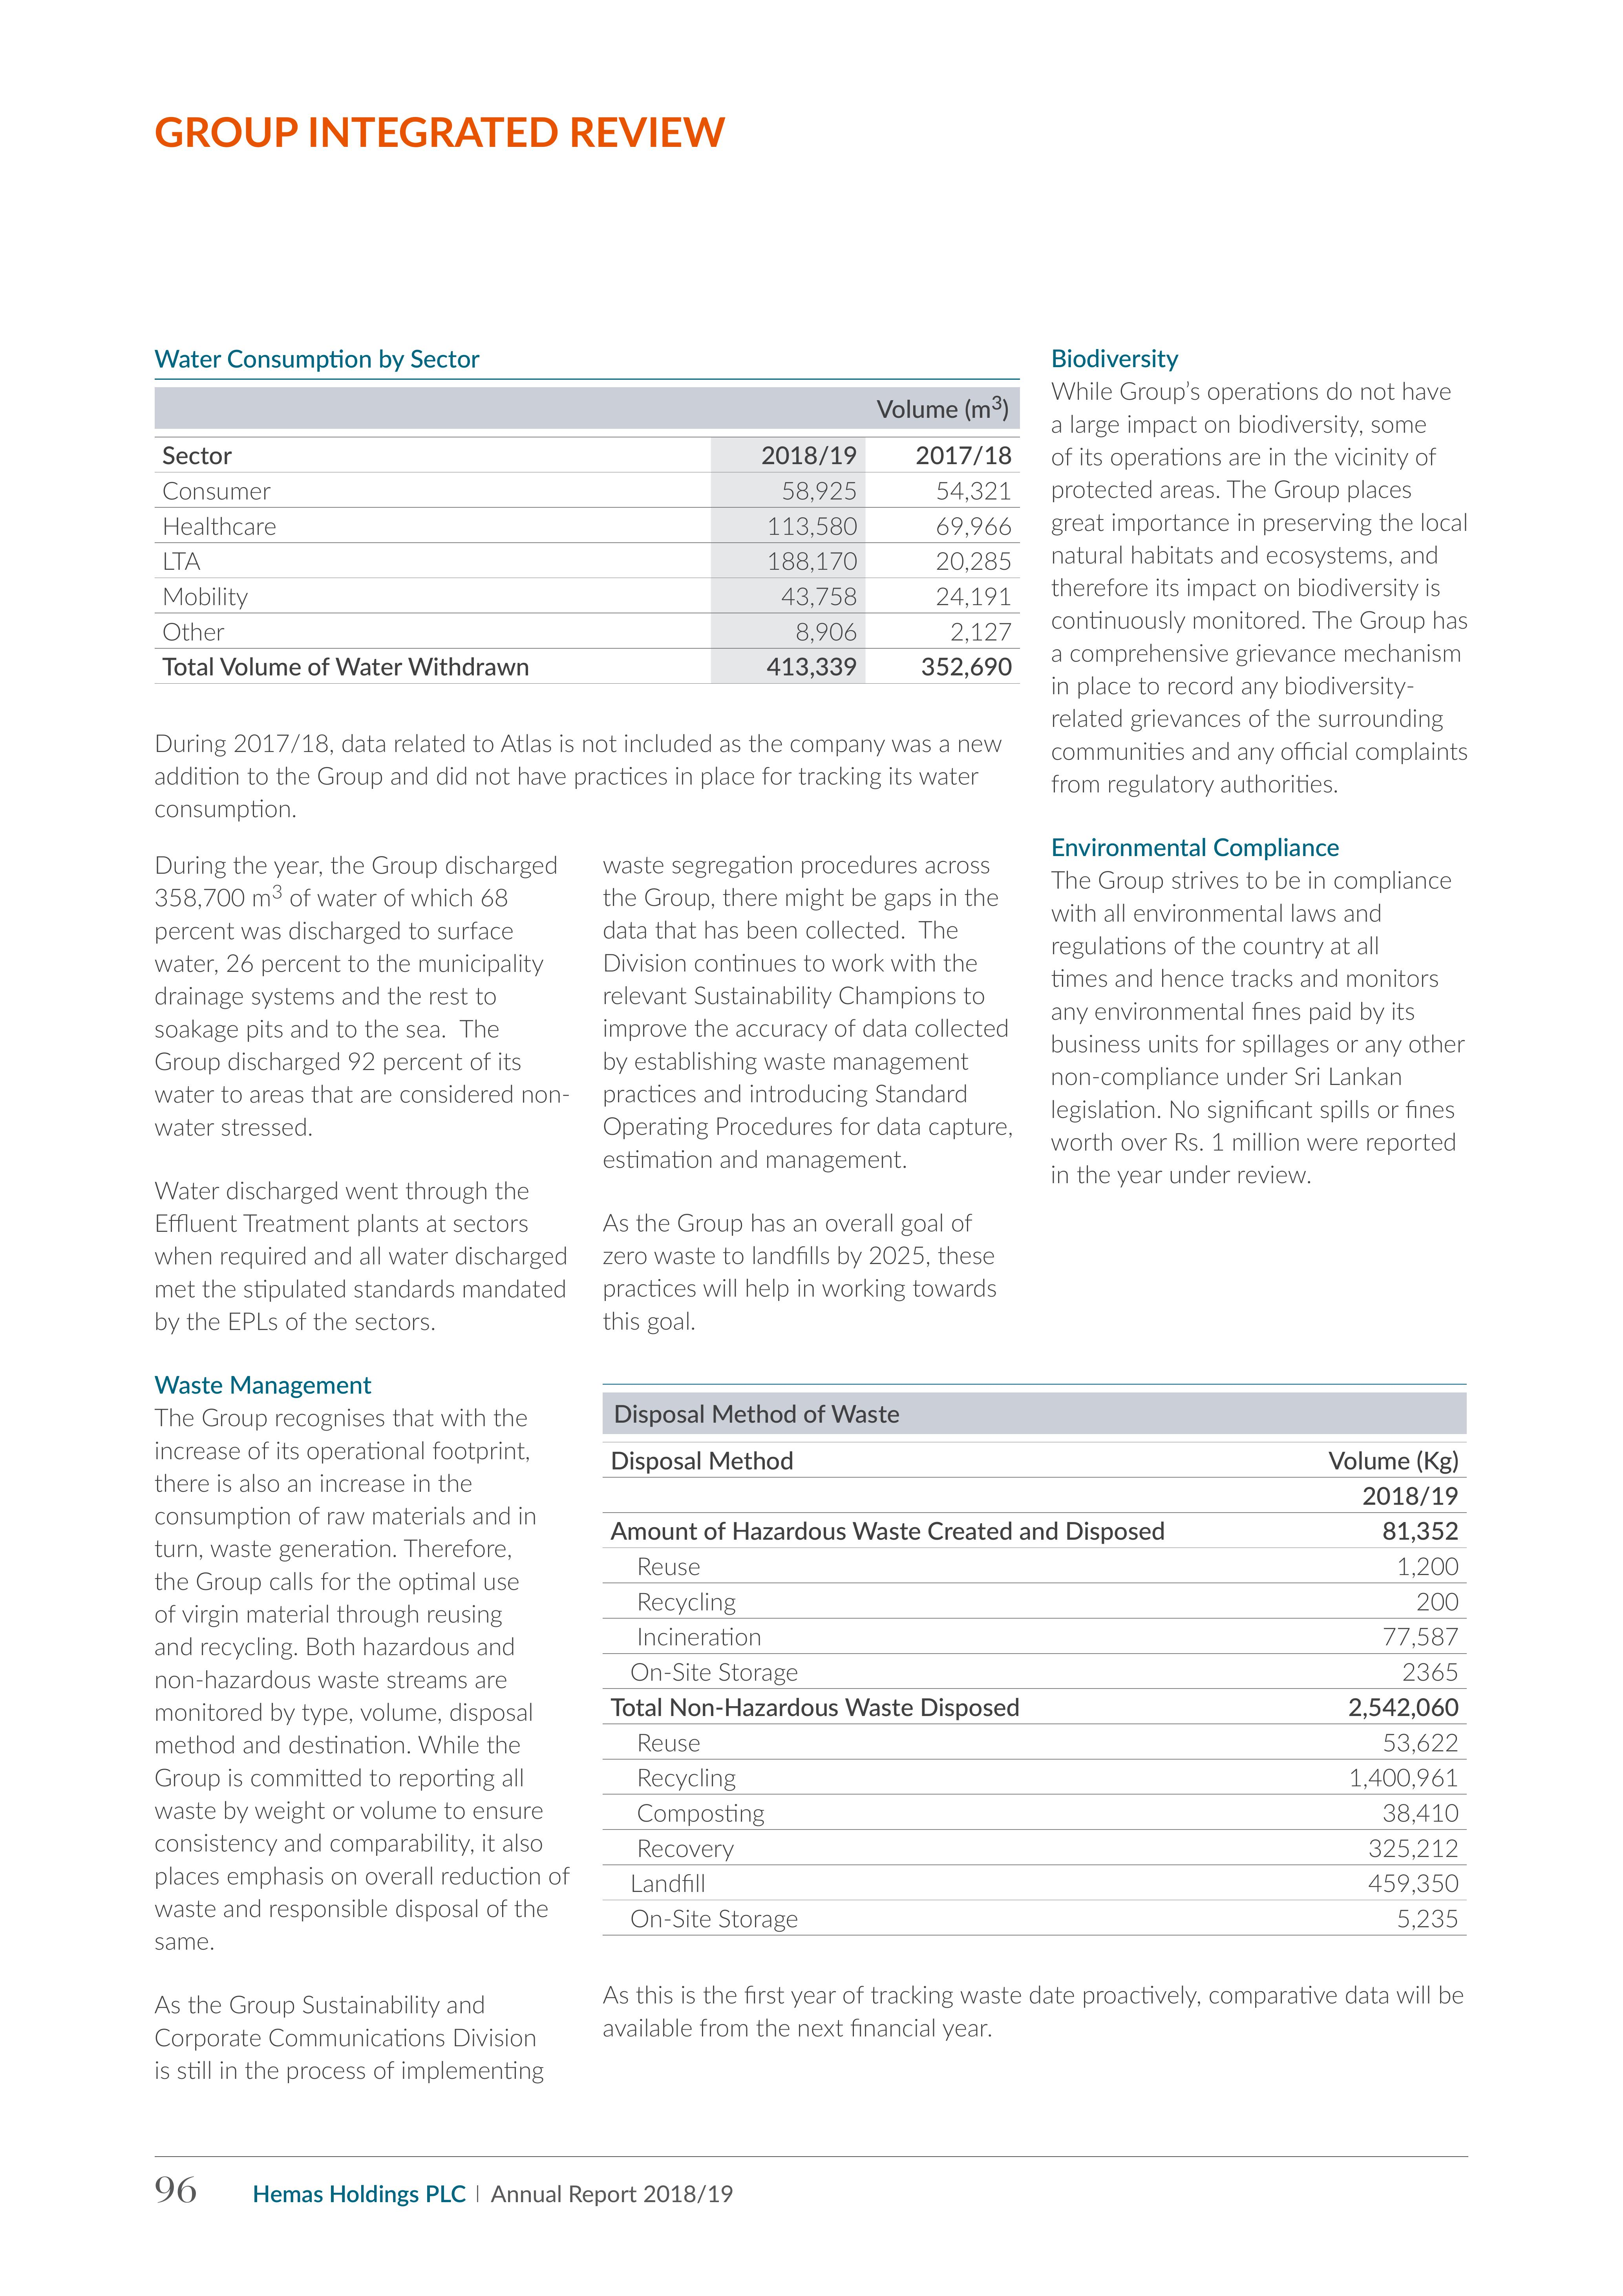table: (594, 1379, 1479, 1969), (148, 367, 1029, 694)
